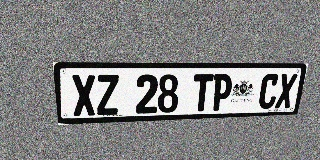2: (136, 74, 158, 114)
8: (157, 74, 180, 113)
C: (257, 74, 280, 109)
P: (211, 74, 233, 111)
T: (191, 74, 214, 112)
X: (71, 75, 96, 116), (274, 74, 298, 108)
Z: (96, 75, 119, 115)
